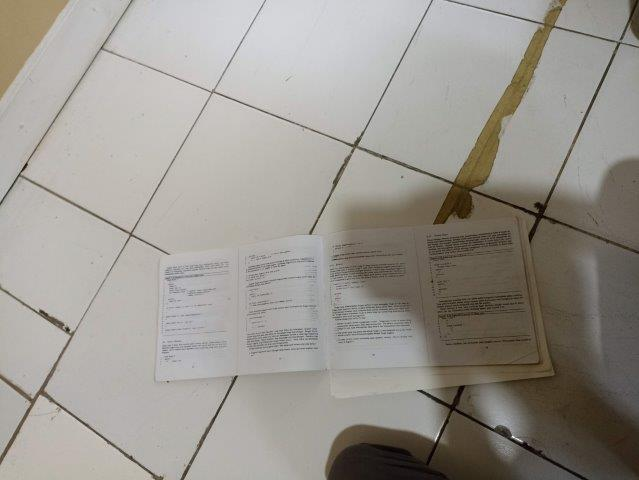kertas: (154, 216, 555, 398)
